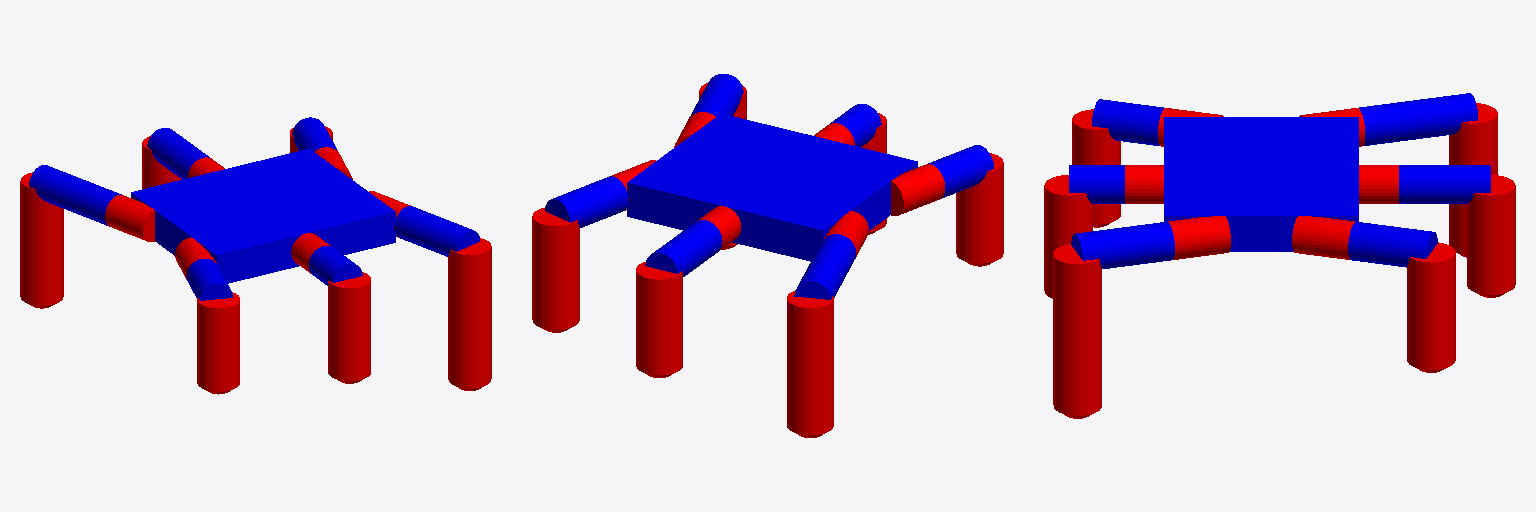
--- Render facts (derived) ---
3 views of the same robot in one strip: view 1: azimuth 30°, elevation 25°; view 2: azimuth 150°, elevation 25°; view 3: azimuth 270°, elevation 25° (orthographic).
Robot: pexod — 19 links, 18 joints (18 revolute); root link base_link; default pose: all joints at 0.
Visible links, largest first — view 1: base_link, leg_3_3, leg_0_3, leg_4_3, leg_5_3, leg_0_2, leg_3_2, leg_1_2, leg_0_1, leg_5_2, leg_4_2, leg_2_2 (+3 smaller); view 2: base_link, leg_0_3, leg_2_3, leg_1_3, leg_5_3, leg_2_2, leg_0_2, leg_1_2, leg_5_1, leg_5_2, leg_3_2, leg_4_2 (+5 smaller); view 3: base_link, leg_3_3, leg_2_3, leg_1_3, leg_0_2, leg_3_2, leg_1_2, leg_0_3, leg_4_3, leg_2_2, leg_5_3, leg_5_2 (+5 smaller).
Boxes of the visible links, x1,y1,x2,y2 form: base_link: (131,149,395,283); leg_3_3: (448,238,491,390); leg_0_3: (20,172,63,308); leg_4_3: (328,272,370,383); leg_5_3: (197,292,239,394); leg_0_2: (29,165,121,226); leg_3_2: (395,206,479,256); leg_1_2: (147,128,211,179); leg_0_1: (105,195,154,241); leg_5_2: (186,259,232,300); leg_4_2: (309,246,362,285); leg_2_2: (292,117,337,151); base_link: (627,114,917,261); leg_0_3: (787,290,833,437); leg_2_3: (532,208,579,332); leg_1_3: (636,262,682,377); leg_5_3: (956,153,1003,266); leg_2_2: (545,176,627,227); leg_0_2: (794,234,855,299); leg_1_2: (645,220,722,276); leg_5_1: (891,164,944,215); leg_5_2: (928,145,993,198); leg_3_2: (689,74,743,117); leg_4_2: (830,104,881,146); base_link: (1164,117,1358,251); leg_3_3: (1053,244,1101,418); leg_2_3: (1407,242,1455,372); leg_1_3: (1467,175,1515,297); leg_0_2: (1359,93,1477,145); leg_3_2: (1071,222,1174,268); leg_1_2: (1399,165,1490,203); leg_0_3: (1449,103,1497,257); leg_4_3: (1044,175,1092,298); leg_2_2: (1348,222,1437,267); leg_5_3: (1072,109,1120,227); leg_5_2: (1092,99,1163,145).
Bounding box of the posed robot: 0.3901 × 0.4815 × 0.2035 m (x, y, z).
Geometry: primitives only (box / cylinder / sphere), no mesh files.

URDF robot description (pexod):
<?xml version="1.0" ?>
<!-- =================================================================================== -->
<!-- |    This document was autogenerated by xacro from pexod.xacro                    | -->
<!-- |    EDITING THIS FILE BY HAND IS NOT RECOMMENDED                                 | -->
<!-- =================================================================================== -->
<robot name="pexod" xmlns:xacro="http://www.ros.org/wiki/xacro">
  <!-- <xacro:include filename="$(find pexod_description)/urdf/pexod_control.xacro" /> -->
  <!-- MATERIALS -->
  <material name="Blue">
    <color rgba="0 0 1 1"/>
  </material>
  <material name="Red">
    <color rgba="1 0 0 1"/>
  </material>
  <material name="Green">
    <color rgba="0 1 0 1"/>
  </material>
  <material name="Yellow">
    <color rgba="1 1 0 1"/>
  </material>
  <material name="LightGrey">
    <color rgba="0.6 0.6 0.6 1.0"/>
  </material>
  <!-- END OF MATERIALS -->
  <!-- XACRO MACROS FOR VISUALS AND COLLISIONS -->
  <!-- END OF XACRO MACROS -->
  <!-- TORSO -->
  <link name="base_link">
    <visual>
      <origin rpy="0 0 0" xyz="0 0 0"/>
      <geometry>
        <box size="0.24 0.2 0.04"/>
      </geometry>
      <material name="Blue"/>
    </visual>
    <collision>
      <origin rpy="0 0 0" xyz="0 0 0"/>
      <geometry>
        <box size="0.24 0.2 0.04"/>
      </geometry>
    </collision>
    <inertial>
      <!-- CENTER OF MASS -->
      <origin rpy="0 0 0" xyz="0 0 0"/>
      <mass value="1.031"/>
      <!-- box inertia: 1/12*m(y^2+z^2), ... -->
      <inertia ixx="0.00357413333333" ixy="0" ixz="0" iyy="0.00508626666667" iyz="0" izz="0.00838546666667"/>
    </inertial>
  </link>
  <!-- XACRO MACRO FOR LEGS LINKS/JOINTS -->
  <!-- END OF LEG LINKS/JOINTS -->
  <joint name="body_leg_2" type="revolute">
    <parent link="base_link"/>
    <child link="leg_2_1"/>
    <limit effort="30.0" lower="-1.57079632679" upper="1.57079632679" velocity="7.0"/>
    <origin rpy="0 0 -0.3" xyz="0.11 0.04 0"/>
    <!-- <xacro:if value="${index == 5 or index == 4 or index == 3}">
                <axis xyz="0 0 1"/>
            </xacro:if>
            <xacro:if value="${index == 2 or index == 1 or index == 0}"> -->
    <axis xyz="0 0 1"/>
    <!-- </xacro:if> -->
    <dynamics damping="0.0"/>
  </joint>
  <link name="leg_2_1">
    <visual>
      <origin rpy="1.57079632679 0 0" xyz="0.01 0.03 0"/>
      <geometry>
        <cylinder length="0.06" radius="0.02"/>
      </geometry>
      <material name="Red"/>
    </visual>
    <collision>
      <origin rpy="1.57079632679 0 0" xyz="0.01 0.03 0"/>
      <geometry>
        <box size="0.02 0.02 0.06"/>
      </geometry>
    </collision>
    <inertial>
      <!-- CENTER OF MASS -->
      <origin rpy="1.57079632679 0 0" xyz="0.01 0.03 0"/>
      <mass value="0.02"/>
      <!-- box inertia: 1/12*m(y^2+z^2), ... -->
      <inertia ixx="6.66666666667e-06" ixy="0" ixz="0" iyy="6.66666666667e-06" iyz="0" izz="1.33333333333e-06"/>
    </inertial>
  </link>
  <joint name="leg_2_1_2" type="revolute">
    <parent link="leg_2_1"/>
    <child link="leg_2_2"/>
    <limit effort="30.0" lower="-0.78539816339" upper="0.78539816339" velocity="7.0"/>
    <origin rpy="0 0 0" xyz="0 0.06 0"/>
    <axis xyz="1 0 0"/>
    <dynamics damping="0.0"/>
  </joint>
  <link name="leg_2_2">
    <visual>
      <origin rpy="1.57079632679 0 0" xyz="0.01 0.0417870360749 0"/>
      <geometry>
        <cylinder length="0.0835740721498" radius="0.02"/>
      </geometry>
      <material name="Blue"/>
    </visual>
    <collision>
      <origin rpy="1.57079632679 0 0" xyz="0.01 0.0417870360749 0"/>
      <geometry>
        <box size="0.02 0.02 0.0835740721498"/>
      </geometry>
    </collision>
    <inertial>
      <!-- CENTER OF MASS -->
      <origin rpy="1.57079632679 0 0" xyz="0.01 0.0417870360749 0"/>
      <mass value="0.184"/>
      <!-- box inertia: 1/12*m(y^2+z^2), ... -->
      <inertia ixx="0.000113230924881" ixy="0" ixz="0" iyy="0.000113230924881" iyz="0" izz="1.22666666667e-05"/>
    </inertial>
  </link>
  <joint name="leg_2_2_3" type="revolute">
    <parent link="leg_2_2"/>
    <child link="leg_2_3"/>
    <limit effort="30.0" lower="-0.78539816339" upper="0.78539816339" velocity="7.0"/>
    <origin rpy="-1.57079632679 0 0" xyz="0 0.0835740721498 0"/>
    <axis xyz="-1 0 0"/>
    <dynamics damping="0.0"/>
  </joint>
  <link name="leg_2_3">
    <visual>
      <origin rpy="1.57079632679 0 0" xyz="0.0125 0.0607248334835 0"/>
      <geometry>
        <cylinder length="0.121449666967" radius="0.025"/>
      </geometry>
      <material name="Red"/>
    </visual>
    <visual>
      <origin rpy="1.57079632679 0 0" xyz="0.0125 0.108949666967 0"/>
      <geometry>
        <sphere radius="0.025"/>
      </geometry>
      <material name="Red"/>
    </visual>
    <collision>
      <origin rpy="1.57079632679 0 0" xyz="0.0125 0.0607248334835 0"/>
      <geometry>
        <box size="0.025 0.025 0.121449666967"/>
      </geometry>
    </collision>
    <collision>
      <origin rpy="1.57079632679 0 0" xyz="0.0125 0.108949666967 0"/>
      <geometry>
        <sphere radius="0.025"/>
      </geometry>
      <material name="Red"/>
    </collision>
    <inertial>
      <!-- CENTER OF MASS -->
      <origin rpy="1.57079632679 0 0" xyz="0.0125 0.0607248334835 0"/>
      <mass value="0.04"/>
      <!-- box inertia: 1/12*m(y^2+z^2), ... -->
      <inertia ixx="5.12500720213e-05" ixy="0" ixz="0" iyy="5.12500720213e-05" iyz="0" izz="4.16666666667e-06"/>
    </inertial>
  </link>
  <joint name="body_leg_3" type="revolute">
    <parent link="base_link"/>
    <child link="leg_3_1"/>
    <limit effort="30.0" lower="-1.57079632679" upper="1.57079632679" velocity="7.0"/>
    <origin rpy="0 0 0.3" xyz="0.11 -0.04 0"/>
    <!-- <xacro:if value="${index == 5 or index == 4 or index == 3}">
                <axis xyz="0 0 1"/>
            </xacro:if>
            <xacro:if value="${index == 2 or index == 1 or index == 0}"> -->
    <axis xyz="0 0 1"/>
    <!-- </xacro:if> -->
    <dynamics damping="0.0"/>
  </joint>
  <link name="leg_3_1">
    <visual>
      <origin rpy="1.57079632679 0 0" xyz="0.01 -0.03 0"/>
      <geometry>
        <cylinder length="0.06" radius="0.02"/>
      </geometry>
      <material name="Red"/>
    </visual>
    <collision>
      <origin rpy="1.57079632679 0 0" xyz="0.01 -0.03 0"/>
      <geometry>
        <box size="0.02 0.02 0.06"/>
      </geometry>
    </collision>
    <inertial>
      <!-- CENTER OF MASS -->
      <origin rpy="1.57079632679 0 0" xyz="0.01 -0.03 0"/>
      <mass value="0.02"/>
      <!-- box inertia: 1/12*m(y^2+z^2), ... -->
      <inertia ixx="6.66666666667e-06" ixy="0" ixz="0" iyy="6.66666666667e-06" iyz="0" izz="1.33333333333e-06"/>
    </inertial>
  </link>
  <joint name="leg_3_1_2" type="revolute">
    <parent link="leg_3_1"/>
    <child link="leg_3_2"/>
    <limit effort="30.0" lower="-0.78539816339" upper="0.78539816339" velocity="7.0"/>
    <origin rpy="0 0 0" xyz="0 -0.06 0"/>
    <axis xyz="-1 0 0"/>
    <dynamics damping="0.0"/>
  </joint>
  <link name="leg_3_2">
    <visual>
      <origin rpy="1.57079632679 0 0" xyz="0.01 -0.0493042376663 0"/>
      <geometry>
        <cylinder length="0.0986084753326" radius="0.02"/>
      </geometry>
      <material name="Blue"/>
    </visual>
    <collision>
      <origin rpy="1.57079632679 0 0" xyz="0.01 -0.0493042376663 0"/>
      <geometry>
        <box size="0.02 0.02 0.0986084753326"/>
      </geometry>
    </collision>
    <inertial>
      <!-- CENTER OF MASS -->
      <origin rpy="1.57079632679 0 0" xyz="0.01 -0.0493042376663 0"/>
      <mass value="0.184"/>
      <!-- box inertia: 1/12*m(y^2+z^2), ... -->
      <inertia ixx="0.000155229014914" ixy="0" ixz="0" iyy="0.000155229014914" iyz="0" izz="1.22666666667e-05"/>
    </inertial>
  </link>
  <joint name="leg_3_2_3" type="revolute">
    <parent link="leg_3_2"/>
    <child link="leg_3_3"/>
    <limit effort="30.0" lower="-0.78539816339" upper="0.78539816339" velocity="7.0"/>
    <origin rpy="1.57079632679 0 0" xyz="0 -0.0986084753326 0"/>
    <axis xyz="1 0 0"/>
    <dynamics damping="0.0"/>
  </joint>
  <link name="leg_3_3">
    <visual>
      <origin rpy="1.57079632679 0 0" xyz="0.0125 -0.085516817635 0"/>
      <geometry>
        <cylinder length="0.17103363527" radius="0.025"/>
      </geometry>
      <material name="Red"/>
    </visual>
    <visual>
      <origin rpy="1.57079632679 0 0" xyz="0.0125 -0.15853363527 0"/>
      <geometry>
        <sphere radius="0.025"/>
      </geometry>
      <material name="Red"/>
    </visual>
    <collision>
      <origin rpy="1.57079632679 0 0" xyz="0.0125 -0.085516817635 0"/>
      <geometry>
        <box size="0.025 0.025 0.17103363527"/>
      </geometry>
    </collision>
    <collision>
      <origin rpy="1.57079632679 0 0" xyz="0.0125 -0.15853363527 0"/>
      <geometry>
        <sphere radius="0.025"/>
      </geometry>
      <material name="Red"/>
    </collision>
    <inertial>
      <!-- CENTER OF MASS -->
      <origin rpy="1.57079632679 0 0" xyz="0.0125 -0.085516817635 0"/>
      <mass value="0.04"/>
      <!-- box inertia: 1/12*m(y^2+z^2), ... -->
      <inertia ixx="9.95916813122e-05" ixy="0" ixz="0" iyy="9.95916813122e-05" iyz="0" izz="4.16666666667e-06"/>
    </inertial>
  </link>
  <joint name="body_leg_0" type="revolute">
    <parent link="base_link"/>
    <child link="leg_0_1"/>
    <limit effort="30.0" lower="-1.57079632679" upper="1.57079632679" velocity="7.0"/>
    <origin rpy="0 0 0.3" xyz="-0.13 0.04 0"/>
    <!-- <xacro:if value="${index == 5 or index == 4 or index == 3}">
                <axis xyz="0 0 1"/>
            </xacro:if>
            <xacro:if value="${index == 2 or index == 1 or index == 0}"> -->
    <axis xyz="0 0 1"/>
    <!-- </xacro:if> -->
    <dynamics damping="0.0"/>
  </joint>
  <link name="leg_0_1">
    <visual>
      <origin rpy="1.57079632679 0 0" xyz="0.01 0.03 0"/>
      <geometry>
        <cylinder length="0.06" radius="0.02"/>
      </geometry>
      <material name="Red"/>
    </visual>
    <collision>
      <origin rpy="1.57079632679 0 0" xyz="0.01 0.03 0"/>
      <geometry>
        <box size="0.02 0.02 0.06"/>
      </geometry>
    </collision>
    <inertial>
      <!-- CENTER OF MASS -->
      <origin rpy="1.57079632679 0 0" xyz="0.01 0.03 0"/>
      <mass value="0.02"/>
      <!-- box inertia: 1/12*m(y^2+z^2), ... -->
      <inertia ixx="6.66666666667e-06" ixy="0" ixz="0" iyy="6.66666666667e-06" iyz="0" izz="1.33333333333e-06"/>
    </inertial>
  </link>
  <joint name="leg_0_1_2" type="revolute">
    <parent link="leg_0_1"/>
    <child link="leg_0_2"/>
    <limit effort="30.0" lower="-0.78539816339" upper="0.78539816339" velocity="7.0"/>
    <origin rpy="0 0 0" xyz="0 0.06 0"/>
    <axis xyz="1 0 0"/>
    <dynamics damping="0.0"/>
  </joint>
  <link name="leg_0_2">
    <visual>
      <origin rpy="1.57079632679 0 0" xyz="0.01 0.060364422515 0"/>
      <geometry>
        <cylinder length="0.12072884503" radius="0.02"/>
      </geometry>
      <material name="Blue"/>
    </visual>
    <collision>
      <origin rpy="1.57079632679 0 0" xyz="0.01 0.060364422515 0"/>
      <geometry>
        <box size="0.02 0.02 0.12072884503"/>
      </geometry>
    </collision>
    <inertial>
      <!-- CENTER OF MASS -->
      <origin rpy="1.57079632679 0 0" xyz="0.01 0.060364422515 0"/>
      <mass value="0.184"/>
      <!-- box inertia: 1/12*m(y^2+z^2), ... -->
      <inertia ixx="0.000229623628342" ixy="0" ixz="0" iyy="0.000229623628342" iyz="0" izz="1.22666666667e-05"/>
    </inertial>
  </link>
  <joint name="leg_0_2_3" type="revolute">
    <parent link="leg_0_2"/>
    <child link="leg_0_3"/>
    <limit effort="30.0" lower="-0.78539816339" upper="0.78539816339" velocity="7.0"/>
    <origin rpy="-1.57079632679 0 0" xyz="0 0.12072884503 0"/>
    <axis xyz="-1 0 0"/>
    <dynamics damping="0.0"/>
  </joint>
  <link name="leg_0_3">
    <visual>
      <origin rpy="1.57079632679 0 0" xyz="0.0125 0.07448737253 0"/>
      <geometry>
        <cylinder length="0.14897474506" radius="0.025"/>
      </geometry>
      <material name="Red"/>
    </visual>
    <visual>
      <origin rpy="1.57079632679 0 0" xyz="0.0125 0.13647474506 0"/>
      <geometry>
        <sphere radius="0.025"/>
      </geometry>
      <material name="Red"/>
    </visual>
    <collision>
      <origin rpy="1.57079632679 0 0" xyz="0.0125 0.07448737253 0"/>
      <geometry>
        <box size="0.025 0.025 0.14897474506"/>
      </geometry>
    </collision>
    <collision>
      <origin rpy="1.57079632679 0 0" xyz="0.0125 0.13647474506 0"/>
      <geometry>
        <sphere radius="0.025"/>
      </geometry>
      <material name="Red"/>
    </collision>
    <inertial>
      <!-- CENTER OF MASS -->
      <origin rpy="1.57079632679 0 0" xyz="0.0125 0.07448737253 0"/>
      <mass value="0.04"/>
      <!-- box inertia: 1/12*m(y^2+z^2), ... -->
      <inertia ixx="7.6061582219e-05" ixy="0" ixz="0" iyy="7.6061582219e-05" iyz="0" izz="4.16666666667e-06"/>
    </inertial>
  </link>
  <joint name="body_leg_5" type="revolute">
    <parent link="base_link"/>
    <child link="leg_5_1"/>
    <limit effort="30.0" lower="-1.57079632679" upper="1.57079632679" velocity="7.0"/>
    <origin rpy="0 0 -0.3" xyz="-0.13 -0.04 0"/>
    <!-- <xacro:if value="${index == 5 or index == 4 or index == 3}">
                <axis xyz="0 0 1"/>
            </xacro:if>
            <xacro:if value="${index == 2 or index == 1 or index == 0}"> -->
    <axis xyz="0 0 1"/>
    <!-- </xacro:if> -->
    <dynamics damping="0.0"/>
  </joint>
  <link name="leg_5_1">
    <visual>
      <origin rpy="1.57079632679 0 0" xyz="0.01 -0.03 0"/>
      <geometry>
        <cylinder length="0.06" radius="0.02"/>
      </geometry>
      <material name="Red"/>
    </visual>
    <collision>
      <origin rpy="1.57079632679 0 0" xyz="0.01 -0.03 0"/>
      <geometry>
        <box size="0.02 0.02 0.06"/>
      </geometry>
    </collision>
    <inertial>
      <!-- CENTER OF MASS -->
      <origin rpy="1.57079632679 0 0" xyz="0.01 -0.03 0"/>
      <mass value="0.02"/>
      <!-- box inertia: 1/12*m(y^2+z^2), ... -->
      <inertia ixx="6.66666666667e-06" ixy="0" ixz="0" iyy="6.66666666667e-06" iyz="0" izz="1.33333333333e-06"/>
    </inertial>
  </link>
  <joint name="leg_5_1_2" type="revolute">
    <parent link="leg_5_1"/>
    <child link="leg_5_2"/>
    <limit effort="30.0" lower="-0.78539816339" upper="0.78539816339" velocity="7.0"/>
    <origin rpy="0 0 0" xyz="0 -0.06 0"/>
    <axis xyz="-1 0 0"/>
    <dynamics damping="0.0"/>
  </joint>
  <link name="leg_5_2">
    <visual>
      <origin rpy="1.57079632679 0 0" xyz="0.01 -0.0353061087788 0"/>
      <geometry>
        <cylinder length="0.0706122175576" radius="0.02"/>
      </geometry>
      <material name="Blue"/>
    </visual>
    <collision>
      <origin rpy="1.57079632679 0 0" xyz="0.01 -0.0353061087788 0"/>
      <geometry>
        <box size="0.02 0.02 0.0706122175576"/>
      </geometry>
    </collision>
    <inertial>
      <!-- CENTER OF MASS -->
      <origin rpy="1.57079632679 0 0" xyz="0.01 -0.0353061087788 0"/>
      <mass value="0.184"/>
      <!-- box inertia: 1/12*m(y^2+z^2), ... -->
      <inertia ixx="8.25866407822e-05" ixy="0" ixz="0" iyy="8.25866407822e-05" iyz="0" izz="1.22666666667e-05"/>
    </inertial>
  </link>
  <joint name="leg_5_2_3" type="revolute">
    <parent link="leg_5_2"/>
    <child link="leg_5_3"/>
    <limit effort="30.0" lower="-0.78539816339" upper="0.78539816339" velocity="7.0"/>
    <origin rpy="1.57079632679 0 0" xyz="0 -0.0706122175576 0"/>
    <axis xyz="1 0 0"/>
    <dynamics damping="0.0"/>
  </joint>
  <link name="leg_5_3">
    <visual>
      <origin rpy="1.57079632679 0 0" xyz="0.0125 -0.053527456633 0"/>
      <geometry>
        <cylinder length="0.107054913266" radius="0.025"/>
      </geometry>
      <material name="Red"/>
    </visual>
    <visual>
      <origin rpy="1.57079632679 0 0" xyz="0.0125 -0.094554913266 0"/>
      <geometry>
        <sphere radius="0.025"/>
      </geometry>
      <material name="Red"/>
    </visual>
    <collision>
      <origin rpy="1.57079632679 0 0" xyz="0.0125 -0.053527456633 0"/>
      <geometry>
        <box size="0.025 0.025 0.107054913266"/>
      </geometry>
    </collision>
    <collision>
      <origin rpy="1.57079632679 0 0" xyz="0.0125 -0.094554913266 0"/>
      <geometry>
        <sphere radius="0.025"/>
      </geometry>
      <material name="Red"/>
    </collision>
    <inertial>
      <!-- CENTER OF MASS -->
      <origin rpy="1.57079632679 0 0" xyz="0.0125 -0.053527456633 0"/>
      <mass value="0.04"/>
      <!-- box inertia: 1/12*m(y^2+z^2), ... -->
      <inertia ixx="4.02858481813e-05" ixy="0" ixz="0" iyy="4.02858481813e-05" iyz="0" izz="4.16666666667e-06"/>
    </inertial>
  </link>
  <joint name="body_leg_1" type="revolute">
    <parent link="base_link"/>
    <child link="leg_1_1"/>
    <limit effort="30.0" lower="-1.57079632679" upper="1.57079632679" velocity="7.0"/>
    <origin rpy="0 0 0" xyz="-0.01 0.08 0"/>
    <!-- <xacro:if value="${index == 5 or index == 4 or index == 3}">
                <axis xyz="0 0 1"/>
            </xacro:if>
            <xacro:if value="${index == 2 or index == 1 or index == 0}"> -->
    <axis xyz="0 0 1"/>
    <!-- </xacro:if> -->
    <dynamics damping="0.0"/>
  </joint>
  <link name="leg_1_1">
    <visual>
      <origin rpy="1.57079632679 0 0" xyz="0.01 0.03 0"/>
      <geometry>
        <cylinder length="0.06" radius="0.02"/>
      </geometry>
      <material name="Red"/>
    </visual>
    <collision>
      <origin rpy="1.57079632679 0 0" xyz="0.01 0.03 0"/>
      <geometry>
        <box size="0.02 0.02 0.06"/>
      </geometry>
    </collision>
    <inertial>
      <!-- CENTER OF MASS -->
      <origin rpy="1.57079632679 0 0" xyz="0.01 0.03 0"/>
      <mass value="0.02"/>
      <!-- box inertia: 1/12*m(y^2+z^2), ... -->
      <inertia ixx="6.66666666667e-06" ixy="0" ixz="0" iyy="6.66666666667e-06" iyz="0" izz="1.33333333333e-06"/>
    </inertial>
  </link>
  <joint name="leg_1_1_2" type="revolute">
    <parent link="leg_1_1"/>
    <child link="leg_1_2"/>
    <limit effort="30.0" lower="-0.78539816339" upper="0.78539816339" velocity="7.0"/>
    <origin rpy="0 0 0" xyz="0 0.06 0"/>
    <axis xyz="1 0 0"/>
    <dynamics damping="0.0"/>
  </joint>
  <link name="leg_1_2">
    <visual>
      <origin rpy="1.57079632679 0 0" xyz="0.01 0.0472683435073 0"/>
      <geometry>
        <cylinder length="0.0945366870146" radius="0.02"/>
      </geometry>
      <material name="Blue"/>
    </visual>
    <collision>
      <origin rpy="1.57079632679 0 0" xyz="0.01 0.0472683435073 0"/>
      <geometry>
        <box size="0.02 0.02 0.0945366870146"/>
      </geometry>
    </collision>
    <inertial>
      <!-- CENTER OF MASS -->
      <origin rpy="1.57079632679 0 0" xyz="0.01 0.0472683435073 0"/>
      <mass value="0.184"/>
      <!-- box inertia: 1/12*m(y^2+z^2), ... -->
      <inertia ixx="0.000143170172939" ixy="0" ixz="0" iyy="0.000143170172939" iyz="0" izz="1.22666666667e-05"/>
    </inertial>
  </link>
  <joint name="leg_1_2_3" type="revolute">
    <parent link="leg_1_2"/>
    <child link="leg_1_3"/>
    <limit effort="30.0" lower="-0.78539816339" upper="0.78539816339" velocity="7.0"/>
    <origin rpy="-1.57079632679 0 0" xyz="0 0.0945366870146 0"/>
    <axis xyz="-1 0 0"/>
    <dynamics damping="0.0"/>
  </joint>
  <link name="leg_1_3">
    <visual>
      <origin rpy="1.57079632679 0 0" xyz="0.0125 0.05607440605 0"/>
      <geometry>
        <cylinder length="0.1121488121" radius="0.025"/>
      </geometry>
      <material name="Red"/>
    </visual>
    <visual>
      <origin rpy="1.57079632679 0 0" xyz="0.0125 0.0996488121 0"/>
      <geometry>
        <sphere radius="0.025"/>
      </geometry>
      <material name="Red"/>
    </visual>
    <collision>
      <origin rpy="1.57079632679 0 0" xyz="0.0125 0.05607440605 0"/>
      <geometry>
        <box size="0.025 0.025 0.1121488121"/>
      </geometry>
    </collision>
    <collision>
      <origin rpy="1.57079632679 0 0" xyz="0.0125 0.0996488121 0"/>
      <geometry>
        <sphere radius="0.025"/>
      </geometry>
      <material name="Red"/>
    </collision>
    <inertial>
      <!-- CENTER OF MASS -->
      <origin rpy="1.57079632679 0 0" xyz="0.0125 0.05607440605 0"/>
      <mass value="0.04"/>
      <!-- box inertia: 1/12*m(y^2+z^2), ... -->
      <inertia ixx="4.40078535181e-05" ixy="0" ixz="0" iyy="4.40078535181e-05" iyz="0" izz="4.16666666667e-06"/>
    </inertial>
  </link>
  <joint name="body_leg_4" type="revolute">
    <parent link="base_link"/>
    <child link="leg_4_1"/>
    <limit effort="30.0" lower="-1.57079632679" upper="1.57079632679" velocity="7.0"/>
    <origin rpy="0 0 0" xyz="-0.01 -0.08 0"/>
    <!-- <xacro:if value="${index == 5 or index == 4 or index == 3}">
                <axis xyz="0 0 1"/>
            </xacro:if>
            <xacro:if value="${index == 2 or index == 1 or index == 0}"> -->
    <axis xyz="0 0 1"/>
    <!-- </xacro:if> -->
    <dynamics damping="0.0"/>
  </joint>
  <link name="leg_4_1">
    <visual>
      <origin rpy="1.57079632679 0 0" xyz="0.01 -0.03 0"/>
      <geometry>
        <cylinder length="0.06" radius="0.02"/>
      </geometry>
      <material name="Red"/>
    </visual>
    <collision>
      <origin rpy="1.57079632679 0 0" xyz="0.01 -0.03 0"/>
      <geometry>
        <box size="0.02 0.02 0.06"/>
      </geometry>
    </collision>
    <inertial>
      <!-- CENTER OF MASS -->
      <origin rpy="1.57079632679 0 0" xyz="0.01 -0.03 0"/>
      <mass value="0.02"/>
      <!-- box inertia: 1/12*m(y^2+z^2), ... -->
      <inertia ixx="6.66666666667e-06" ixy="0" ixz="0" iyy="6.66666666667e-06" iyz="0" izz="1.33333333333e-06"/>
    </inertial>
  </link>
  <joint name="leg_4_1_2" type="revolute">
    <parent link="leg_4_1"/>
    <child link="leg_4_2"/>
    <limit effort="30.0" lower="-0.78539816339" upper="0.78539816339" velocity="7.0"/>
    <origin rpy="0 0 0" xyz="0 -0.06 0"/>
    <axis xyz="-1 0 0"/>
    <dynamics damping="0.0"/>
  </joint>
  <link name="leg_4_2">
    <visual>
      <origin rpy="1.57079632679 0 0" xyz="0.01 -0.028467221716 0"/>
      <geometry>
        <cylinder length="0.056934443432" radius="0.02"/>
      </geometry>
      <material name="Blue"/>
    </visual>
    <collision>
      <origin rpy="1.57079632679 0 0" xyz="0.01 -0.028467221716 0"/>
      <geometry>
        <box size="0.02 0.02 0.056934443432"/>
      </geometry>
    </collision>
    <inertial>
      <!-- CENTER OF MASS -->
      <origin rpy="1.57079632679 0 0" xyz="0.01 -0.028467221716 0"/>
      <mass value="0.184"/>
      <!-- box inertia: 1/12*m(y^2+z^2), ... -->
      <inertia ixx="5.583680635e-05" ixy="0" ixz="0" iyy="5.583680635e-05" iyz="0" izz="1.22666666667e-05"/>
    </inertial>
  </link>
  <joint name="leg_4_2_3" type="revolute">
    <parent link="leg_4_2"/>
    <child link="leg_4_3"/>
    <limit effort="30.0" lower="-0.78539816339" upper="0.78539816339" velocity="7.0"/>
    <origin rpy="1.57079632679 0 0" xyz="0 -0.056934443432 0"/>
    <axis xyz="1 0 0"/>
    <dynamics damping="0.0"/>
  </joint>
  <link name="leg_4_3">
    <visual>
      <origin rpy="1.57079632679 0 0" xyz="0.0125 -0.059636618933 0"/>
      <geometry>
        <cylinder length="0.119273237866" radius="0.025"/>
      </geometry>
      <material name="Red"/>
    </visual>
    <visual>
      <origin rpy="1.57079632679 0 0" xyz="0.0125 -0.106773237866 0"/>
      <geometry>
        <sphere radius="0.025"/>
      </geometry>
      <material name="Red"/>
    </visual>
    <collision>
      <origin rpy="1.57079632679 0 0" xyz="0.0125 -0.059636618933 0"/>
      <geometry>
        <box size="0.025 0.025 0.119273237866"/>
      </geometry>
    </collision>
    <collision>
      <origin rpy="1.57079632679 0 0" xyz="0.0125 -0.106773237866 0"/>
      <geometry>
        <sphere radius="0.025"/>
      </geometry>
      <material name="Red"/>
    </collision>
    <inertial>
      <!-- CENTER OF MASS -->
      <origin rpy="1.57079632679 0 0" xyz="0.0125 -0.059636618933 0"/>
      <mass value="0.04"/>
      <!-- box inertia: 1/12*m(y^2+z^2), ... -->
      <inertia ixx="4.95036842368e-05" ixy="0" ixz="0" iyy="4.95036842368e-05" iyz="0" izz="4.16666666667e-06"/>
    </inertial>
  </link>
  <!-- END OF LEG LINKS/JOINTS -->
</robot>
